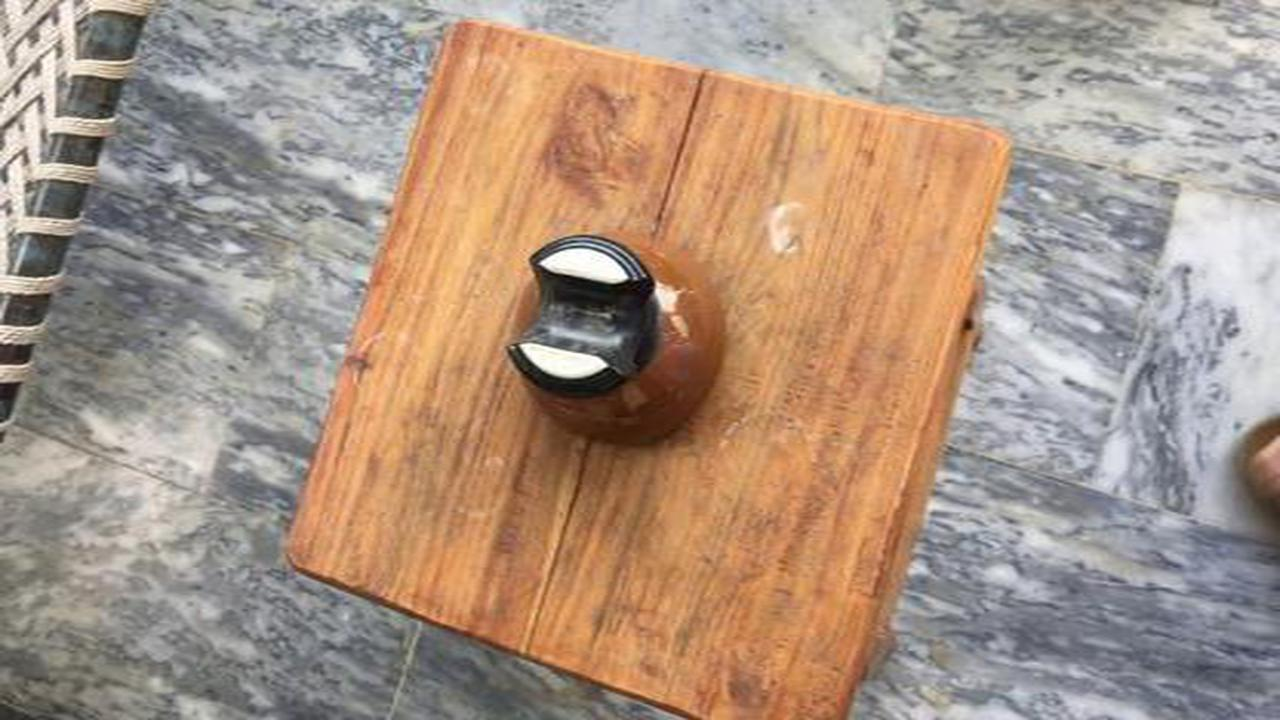insulator_pin: (477, 213, 751, 463)
